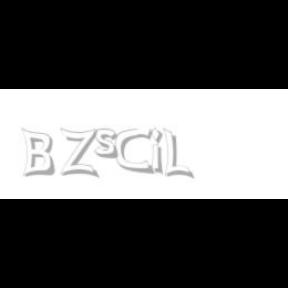B: (21, 128, 55, 178)
C: (116, 128, 152, 174)
L: (163, 128, 191, 180)
Z: (61, 128, 98, 178)
i: (150, 128, 166, 176)
s: (95, 128, 123, 160)
